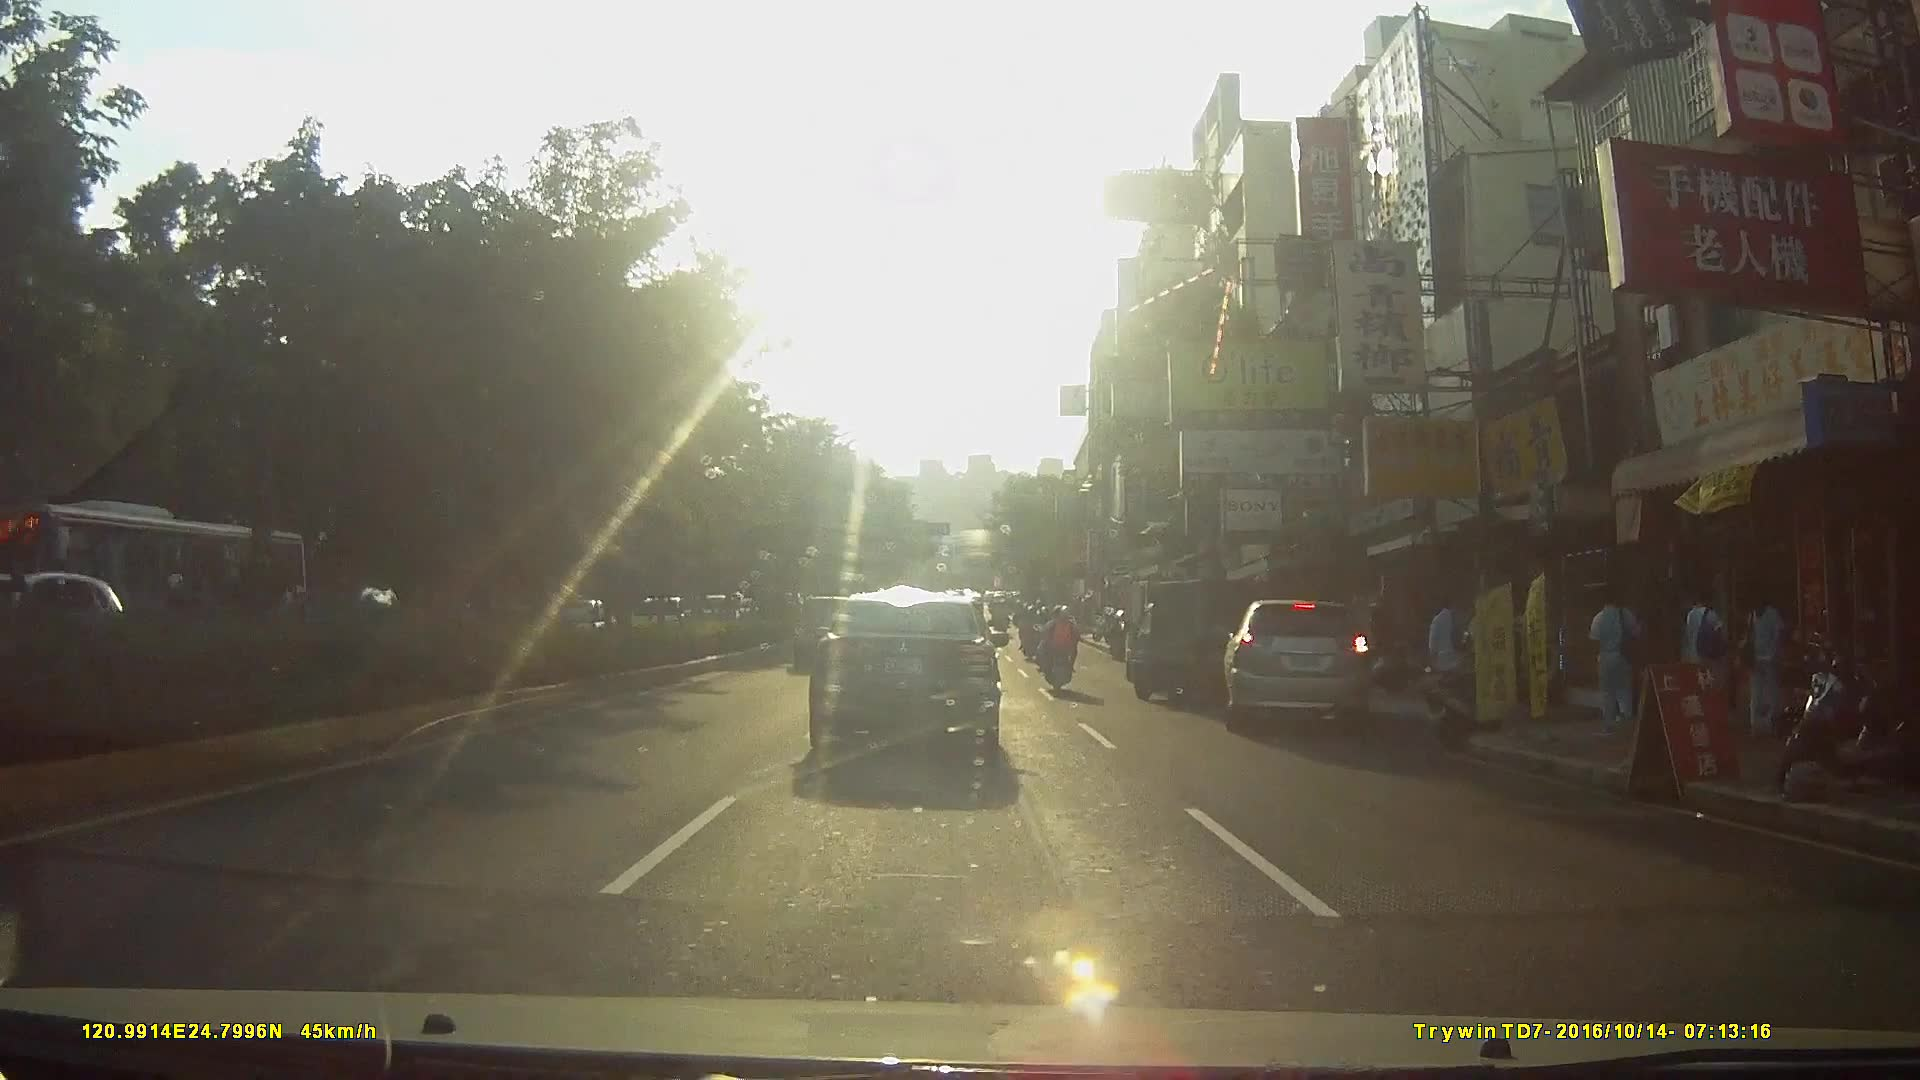pedestrian: (1592, 582, 1643, 737), (1742, 583, 1790, 740), (1686, 585, 1730, 753), (1427, 593, 1473, 715)
rider: (1038, 598, 1081, 694), (1020, 603, 1044, 662)
vehicle: (13, 497, 317, 665), (808, 593, 1029, 777), (1216, 589, 1396, 747), (1115, 567, 1249, 716)
